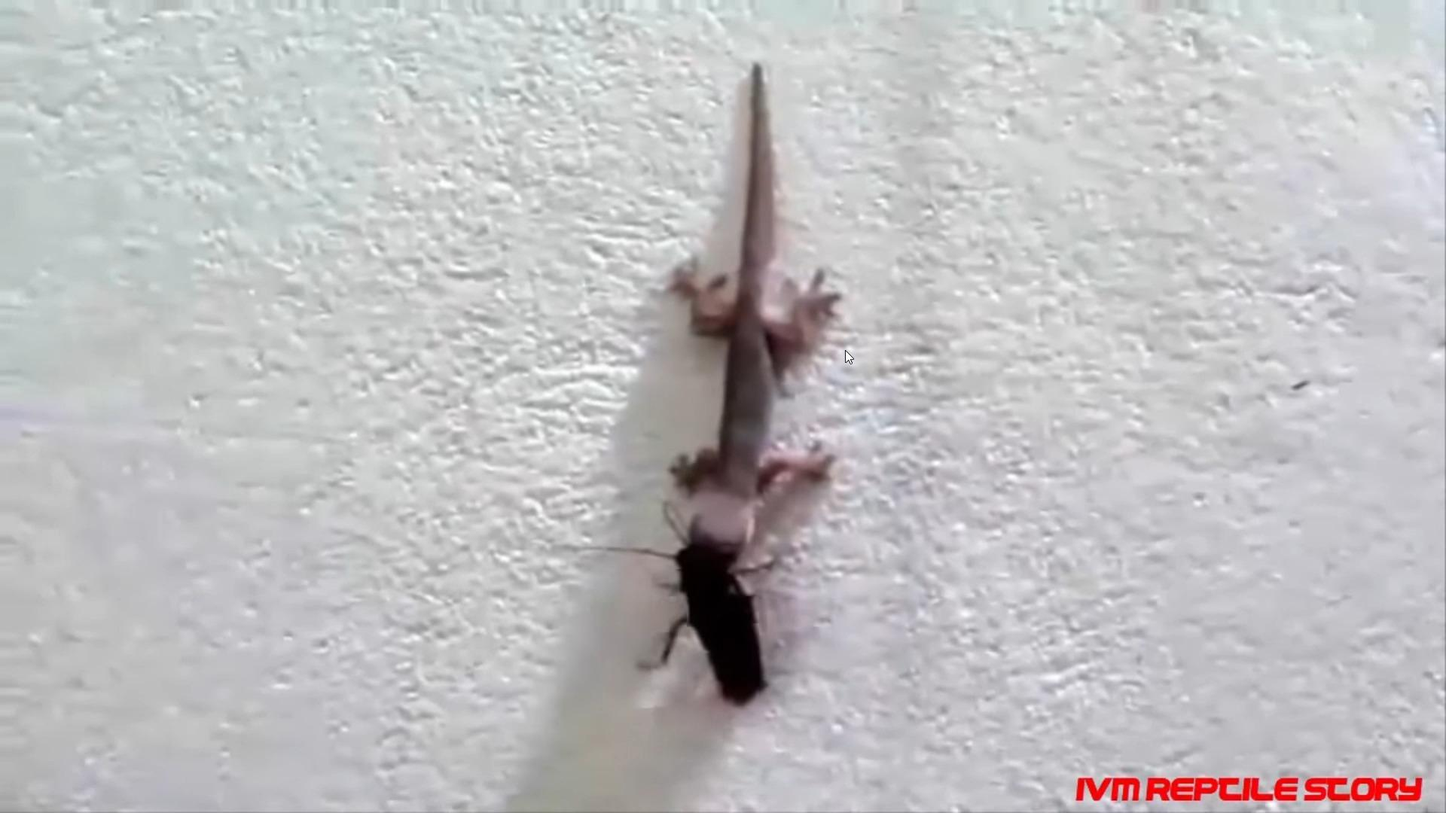cockroach: (616, 538, 765, 698)
lizard: (661, 111, 836, 542)
